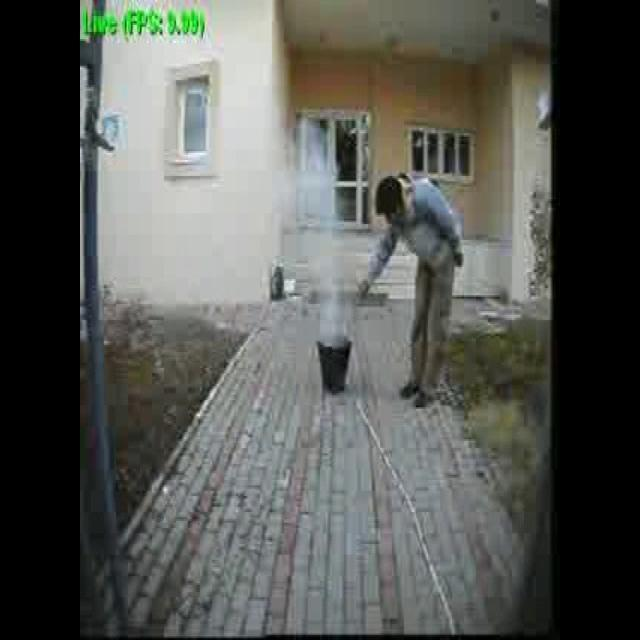Smoke: (216, 45, 351, 339)
